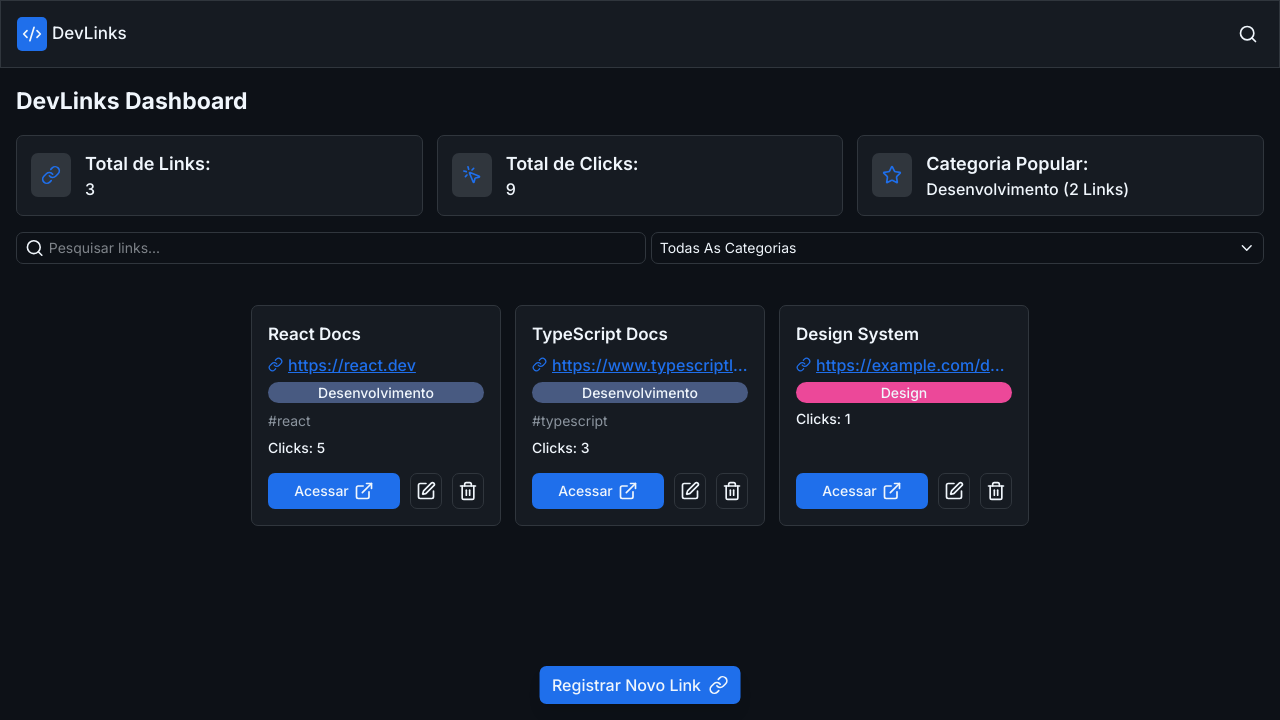
Test: App integration › updates a link and refreshes its card
Expected: the text "React Docs" is shown, [268,324,361,344]
Click the button named "edit" below "React Docs" at (426, 491), box [410,473,442,509]
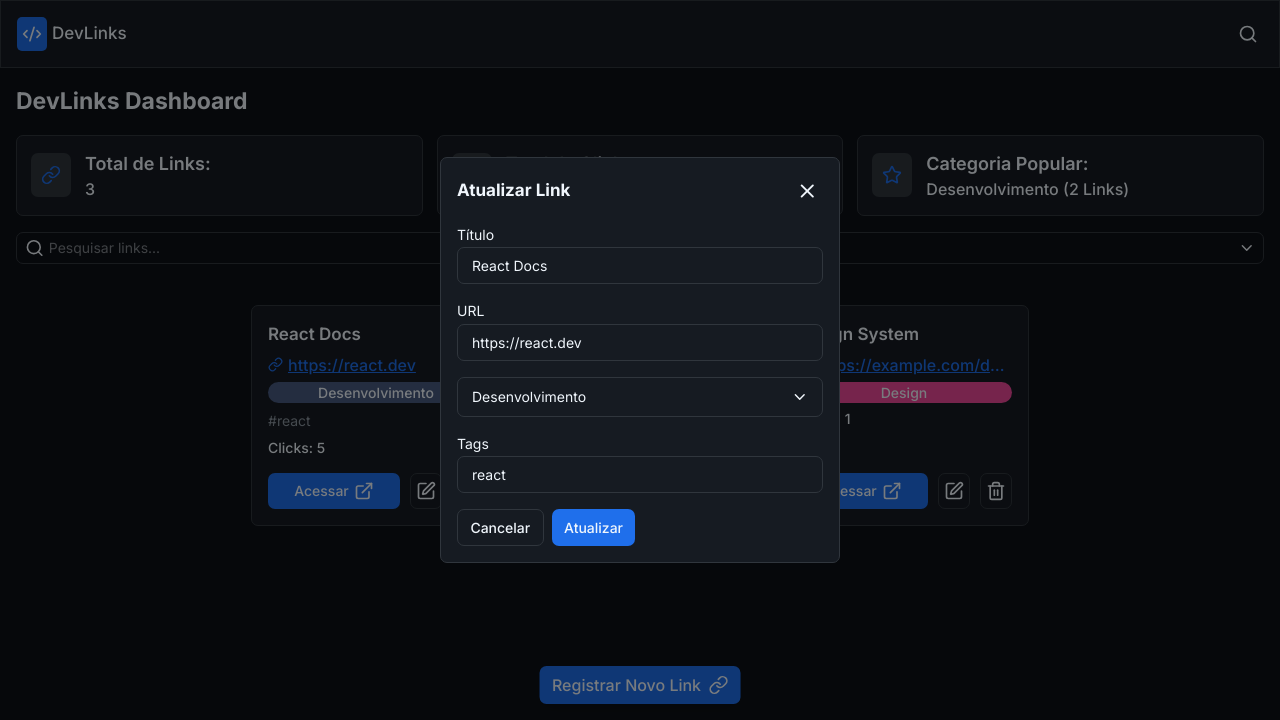
Replace the text in the field labelled "Título" with "React Documentation" at (640, 266), box [457,248,823,284]
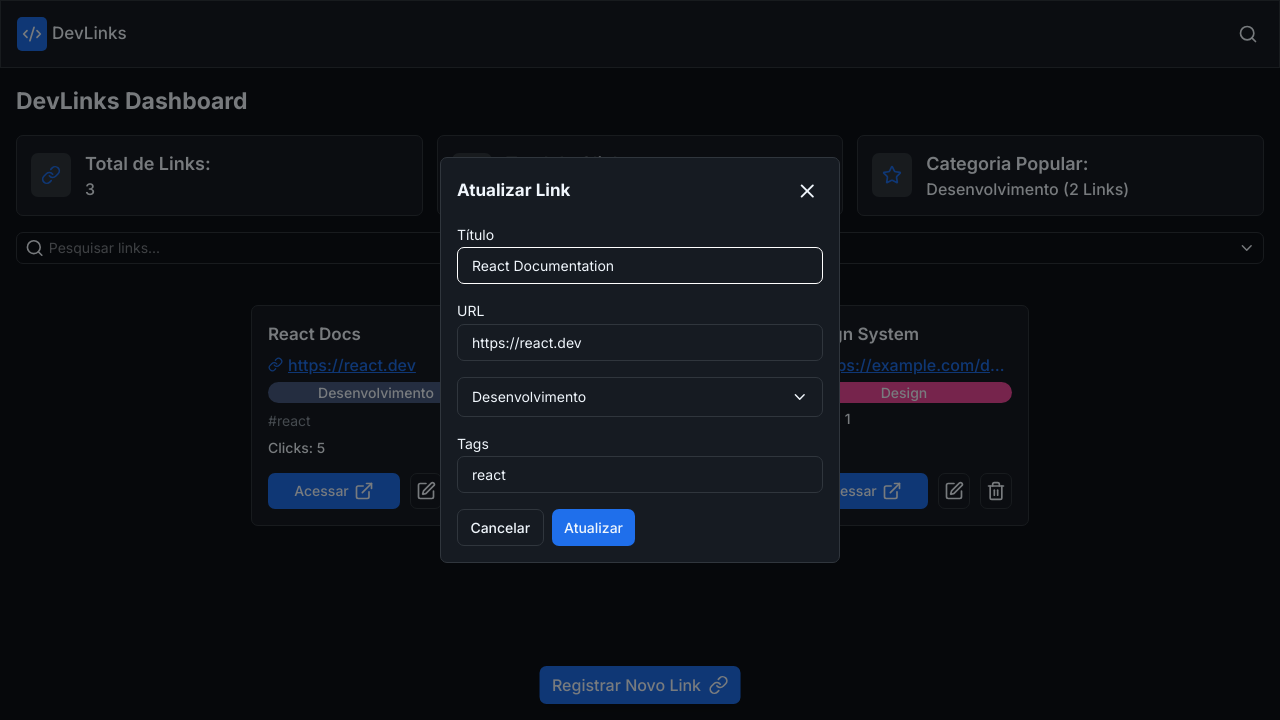
Click the button "Atualizar" at (594, 528), box [552,510,635,546]
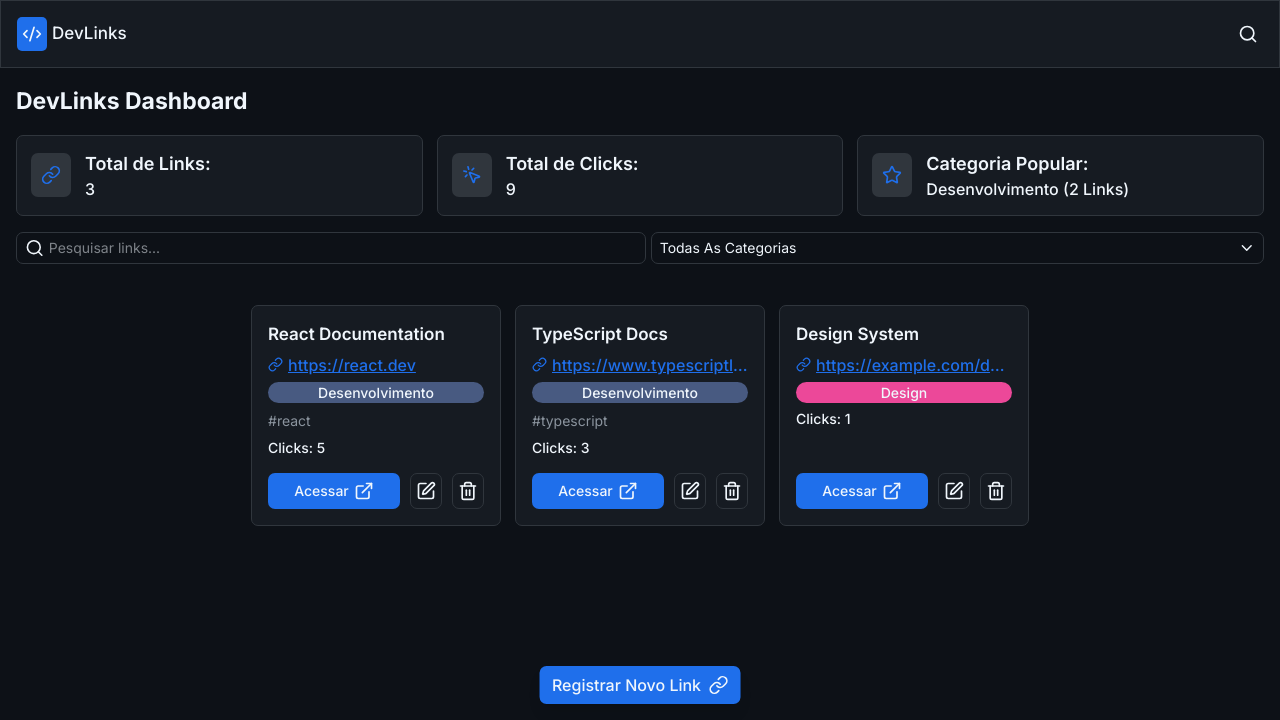
Expected: the text "React Documentation" is shown, [268,324,445,344]
Expected: the text "React Docs" is gone
